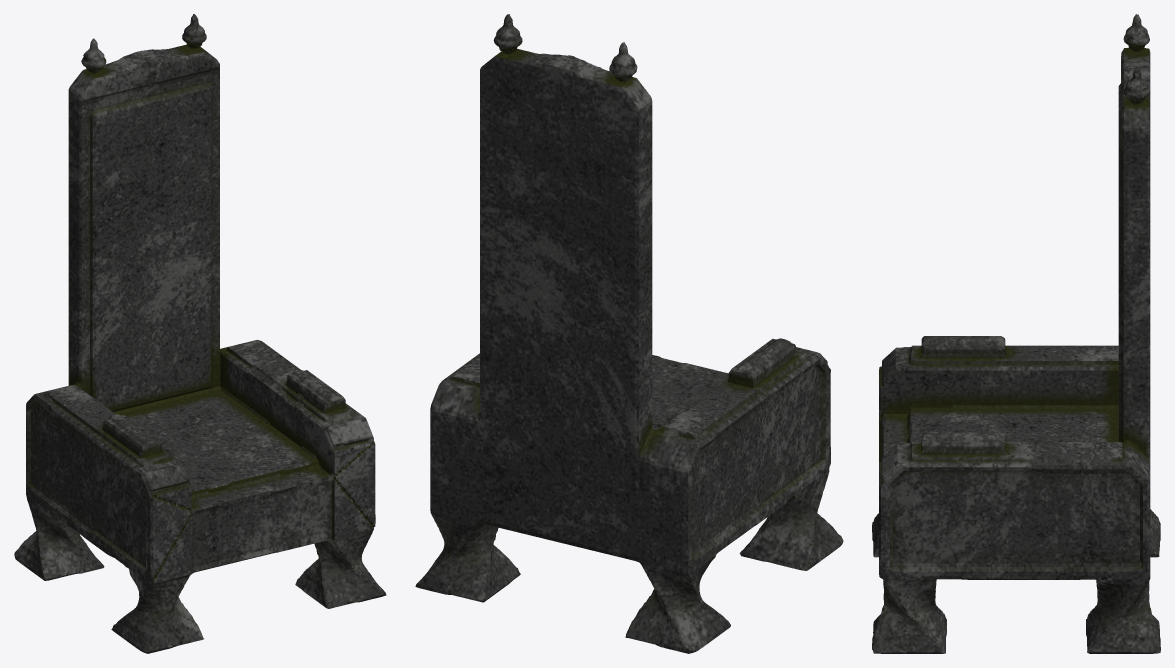
File: Throne_Stone.fbx
3 renders of one model, left to right at view 1: azimuth 30°, elevation 25°; view 2: azimuth 150°, elevation 25°; view 3: azimuth 270°, elevation 25°, orthographic. The views are drawn at different scales.
Visible parts, largest first — view 1: Throne stone; view 2: Throne stone; view 3: Throne stone.
Boxes of the visible parts, bbox=[...] form: Throne stone: bbox=[14, 14, 386, 653]; Throne stone: bbox=[415, 14, 843, 653]; Throne stone: bbox=[872, 14, 1160, 653].
Size of the model in its own units: 78.91 by 158 by 75.05.
Materials: 1 (1 with a texture image).
